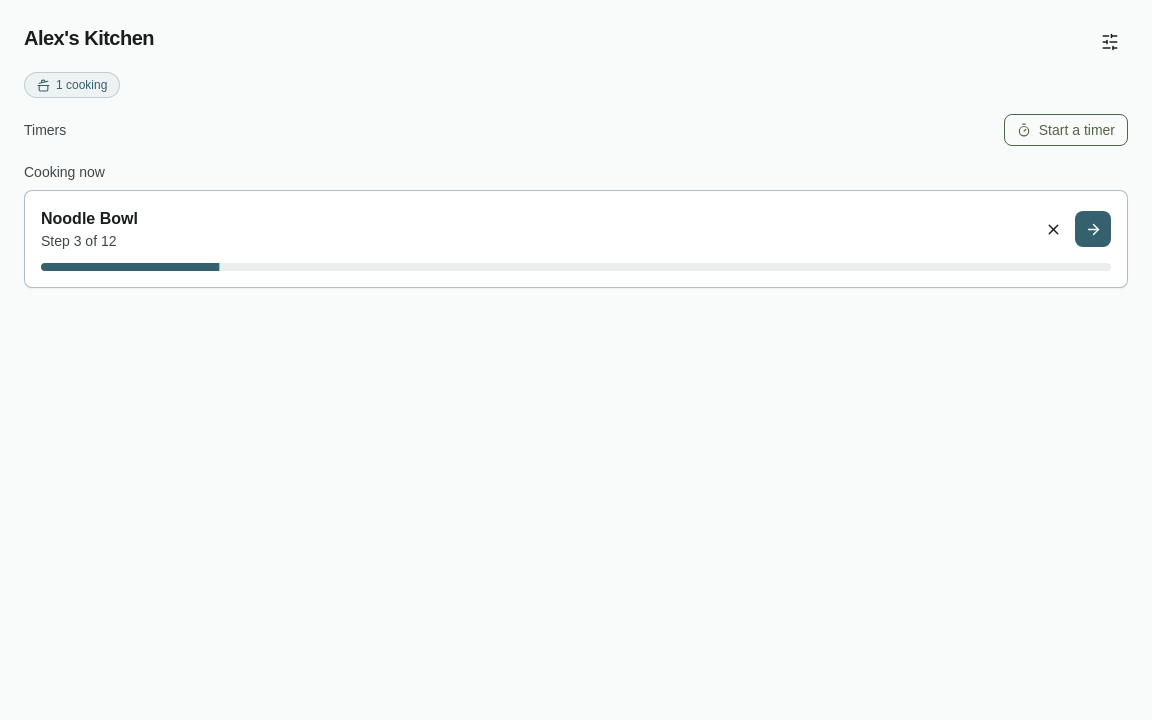
Scenario: MinePage — the workbench › does not repaint a hidden section as "all caught up" — it is still there, just hidden
Click the button with test id "mine-customize-open": (1110, 42) x1=1092 y1=24 x2=1128 y2=60
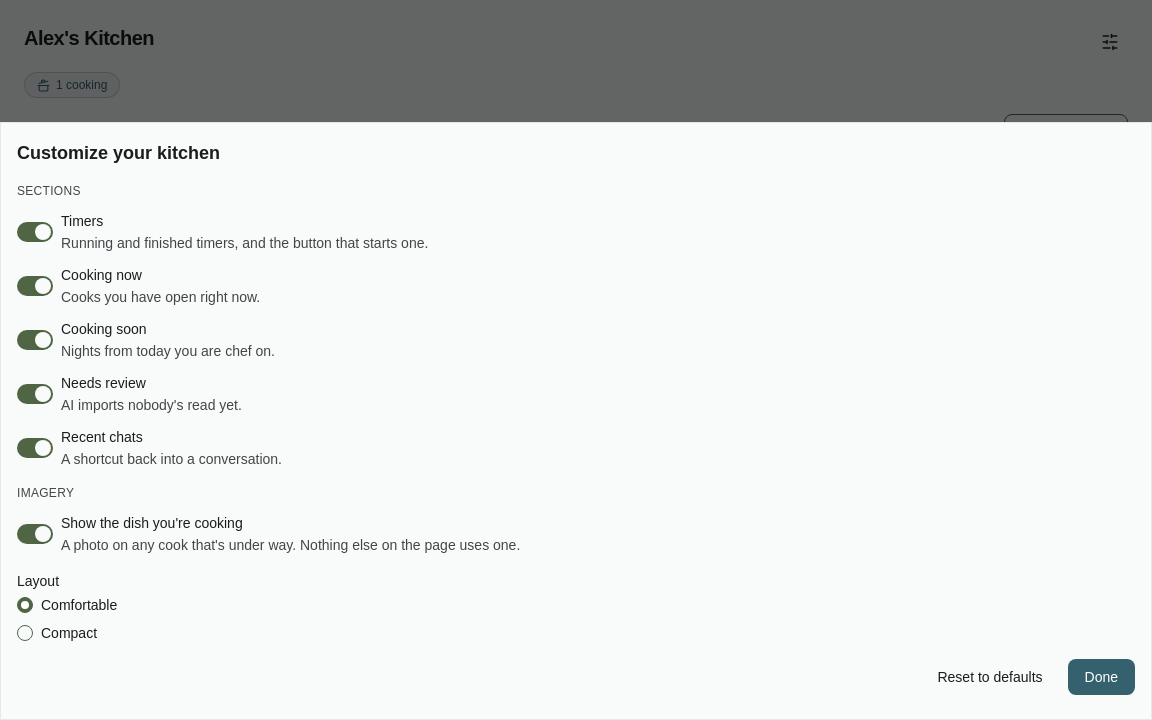
Click the switch next to "Cooks you have open right now.": (35, 286) x1=17 y1=276 x2=53 y2=296
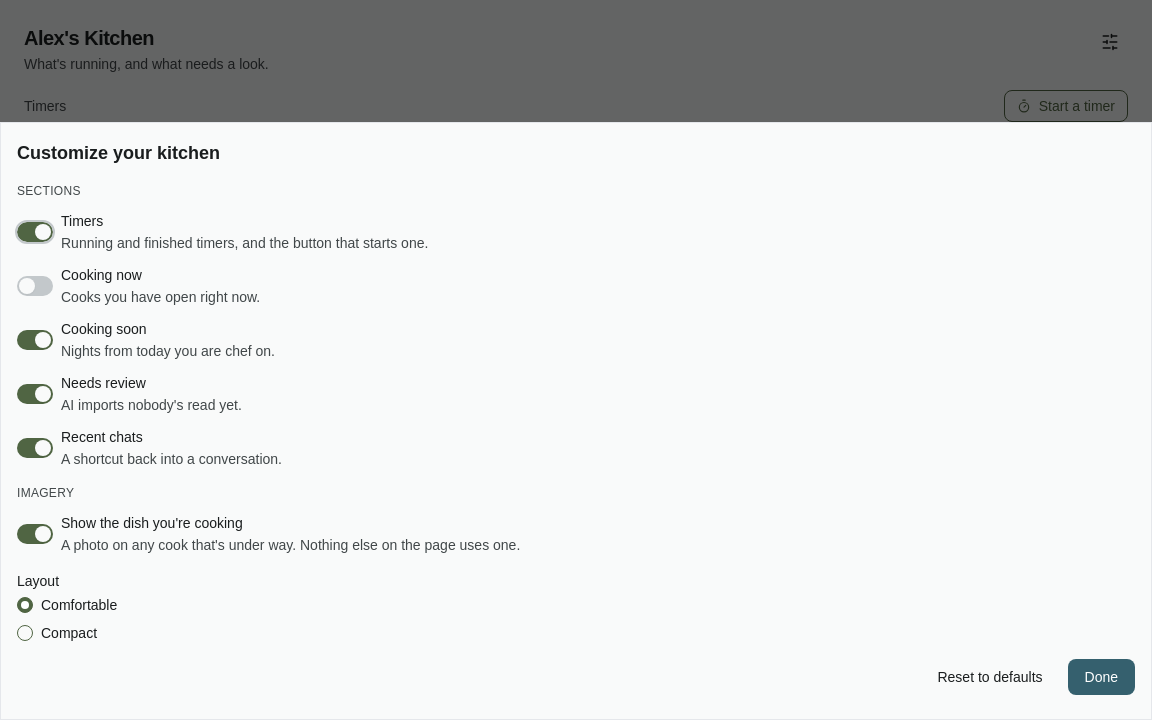
Expected: the element with test id "mine-live" is gone
